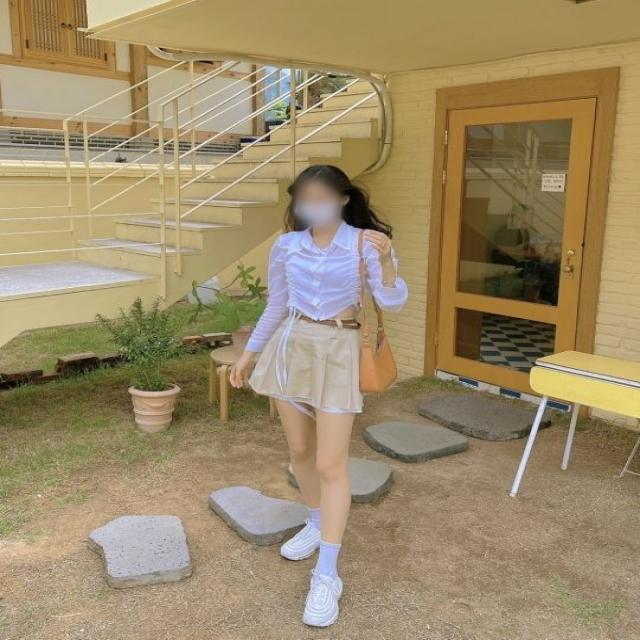shirt: (244, 215, 405, 357)
skirt: (248, 311, 365, 415)
